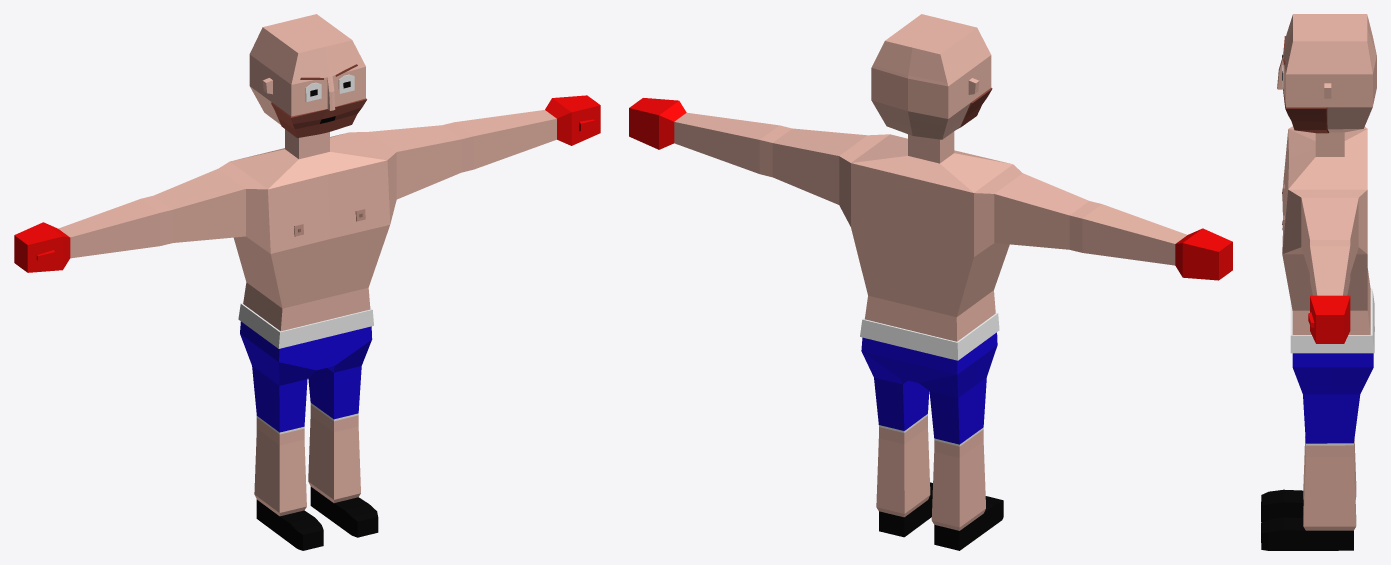
The model's file is LowPolyBlockyT.fbx.
3 views of the same model, side by side, from view 1: azimuth 30°, elevation 25°; view 2: azimuth 150°, elevation 25°; view 3: azimuth 270°, elevation 25° (orthographic). The views are drawn at different scales.
Parts seen in each view (by area): view 1: BlockyMesh; view 2: BlockyMesh; view 3: BlockyMesh.
Boxes of the visible parts, <box> form: BlockyMesh: <box>14,14,600,550</box>; BlockyMesh: <box>629,14,1232,550</box>; BlockyMesh: <box>1261,14,1376,550</box>.
Size of the model in its own units: 237 by 39.91 by 191.
